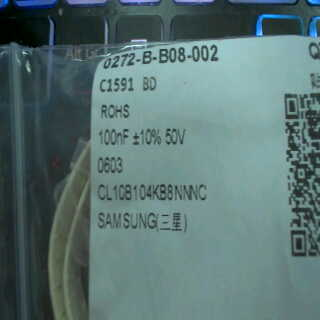100nF: (94, 123, 130, 148)
